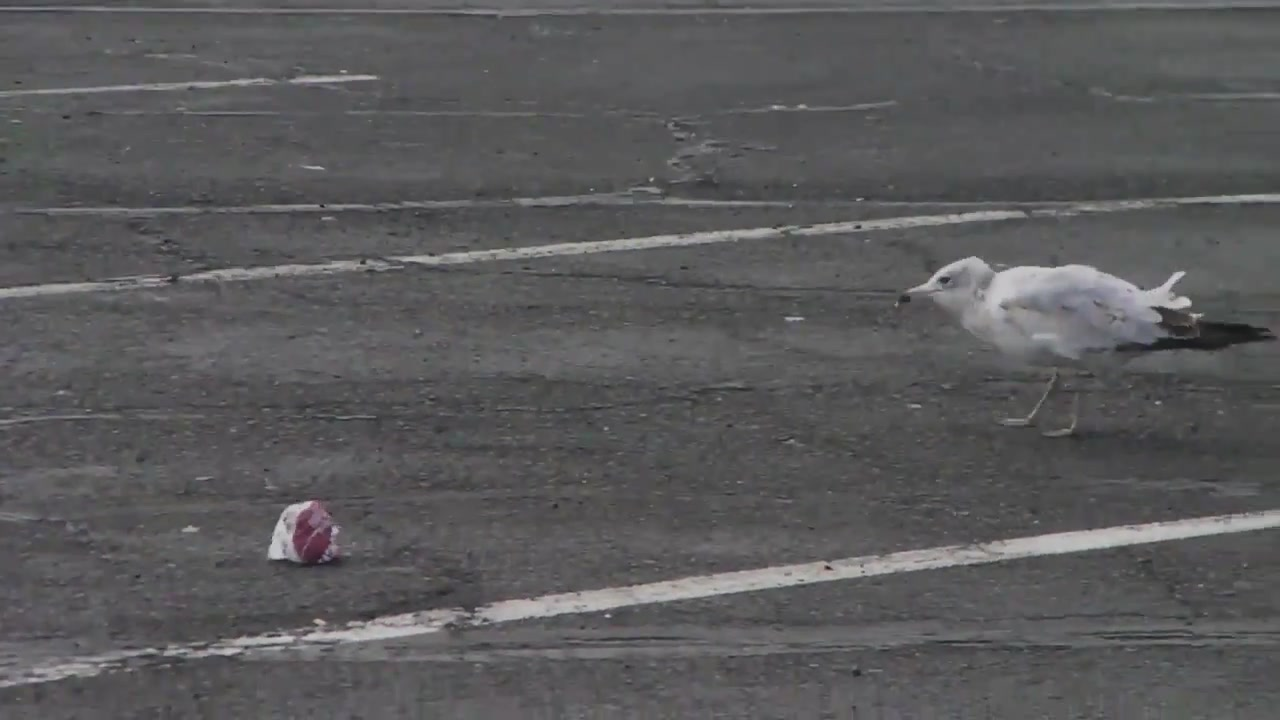bird: (892, 256, 1278, 438)
